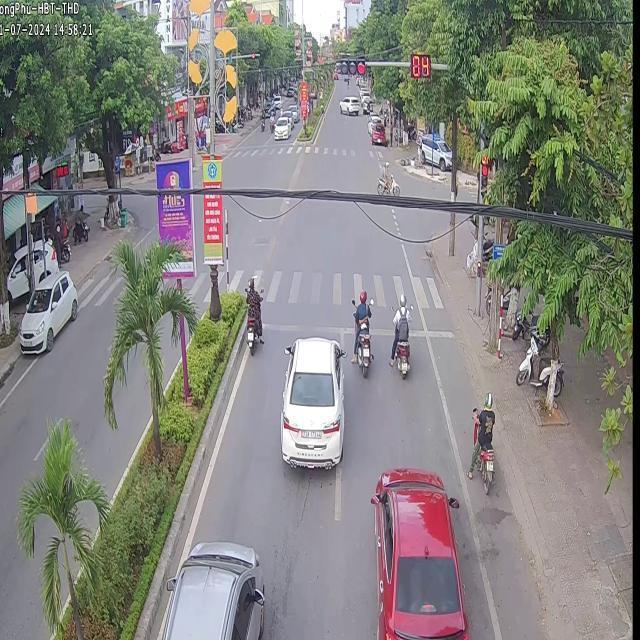car: (369, 467, 467, 637), (162, 540, 263, 638), (279, 336, 344, 467), (17, 269, 77, 351)
motobike: (466, 391, 493, 491), (387, 291, 410, 365), (244, 280, 260, 351), (354, 316, 369, 376)
red_light: (408, 54, 430, 77), (338, 58, 366, 75), (479, 154, 488, 195)
stop_line: (262, 321, 352, 331), (368, 325, 392, 336)
